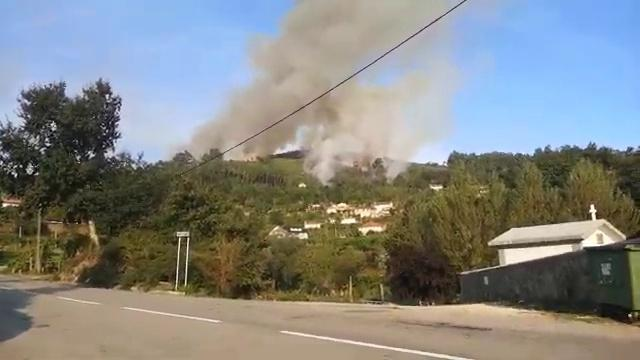smoke: (307, 3, 394, 63), (235, 97, 303, 136)
